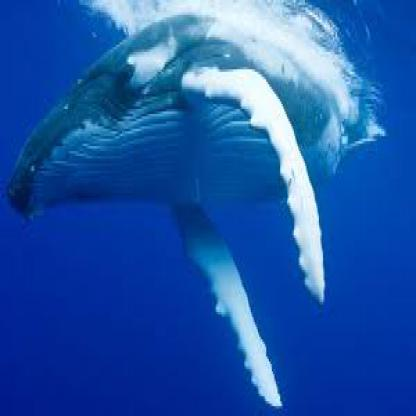sperm_whale: (3, 27, 333, 414)
